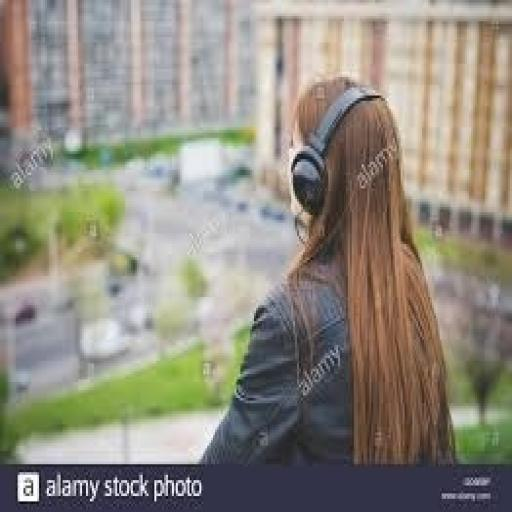listening_to_music: (196, 74, 460, 470)
